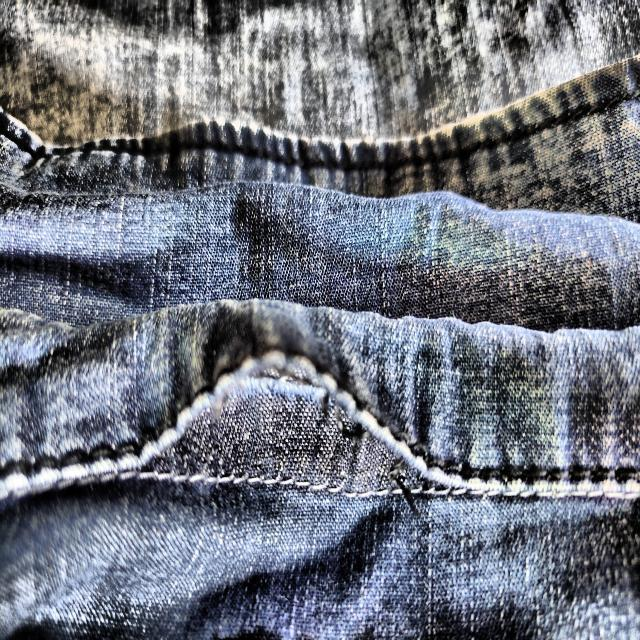gray stitch: (124, 349, 462, 514)
